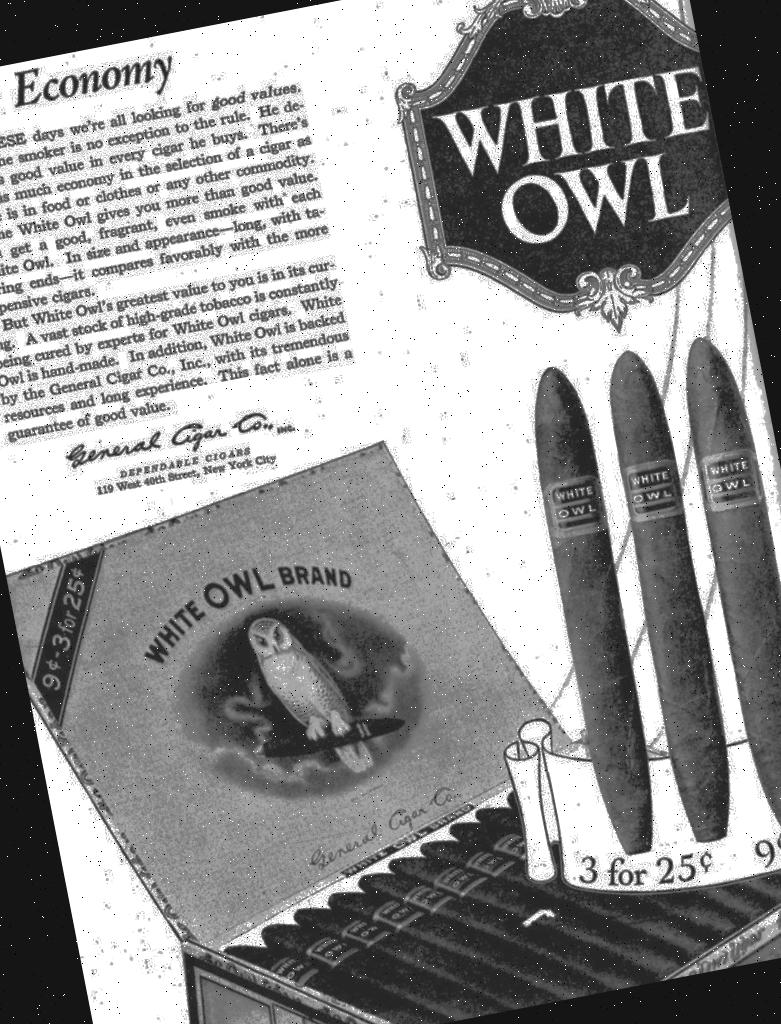Owl: (241, 602, 386, 796)
